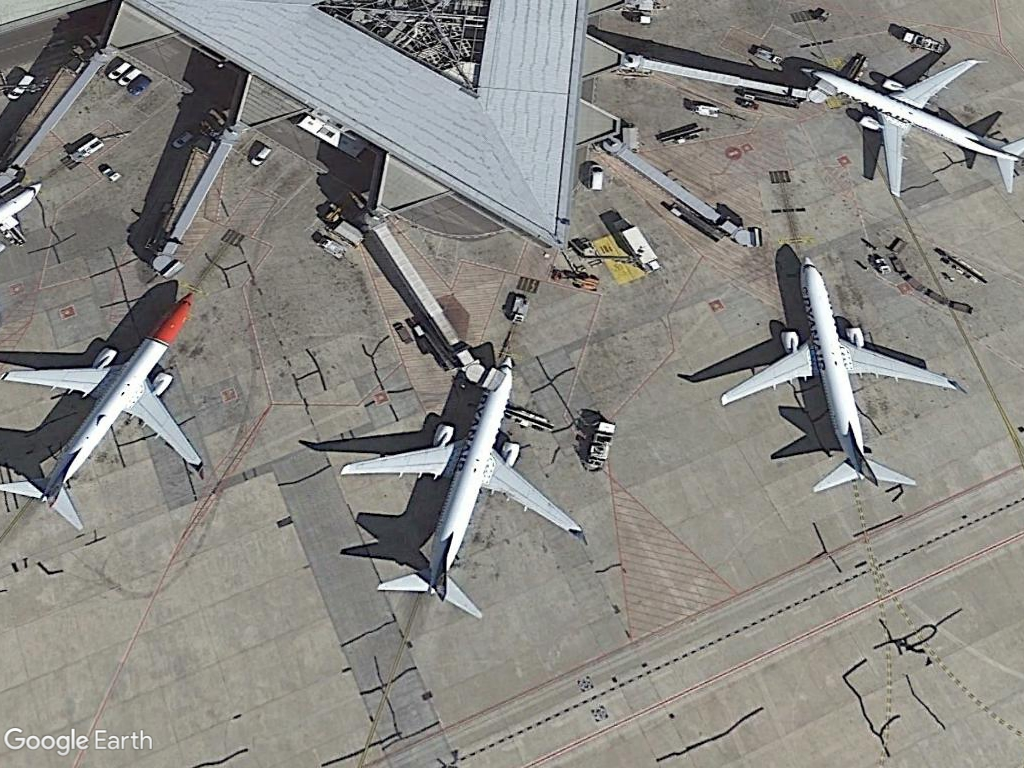airliner: (344, 342, 588, 642), (714, 253, 966, 499), (2, 275, 208, 536), (797, 52, 1023, 207)
pushbacktruck: (748, 41, 790, 71), (68, 135, 107, 164), (312, 233, 349, 261)
truck: (611, 220, 662, 278)
van: (588, 163, 604, 194)
